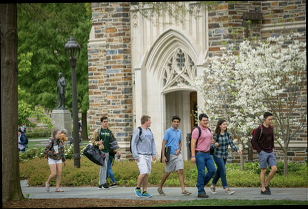without_mask: (200, 117, 209, 126), (265, 116, 274, 125), (173, 119, 181, 129), (220, 121, 228, 131), (147, 117, 152, 127), (103, 119, 109, 127), (57, 131, 62, 139)
